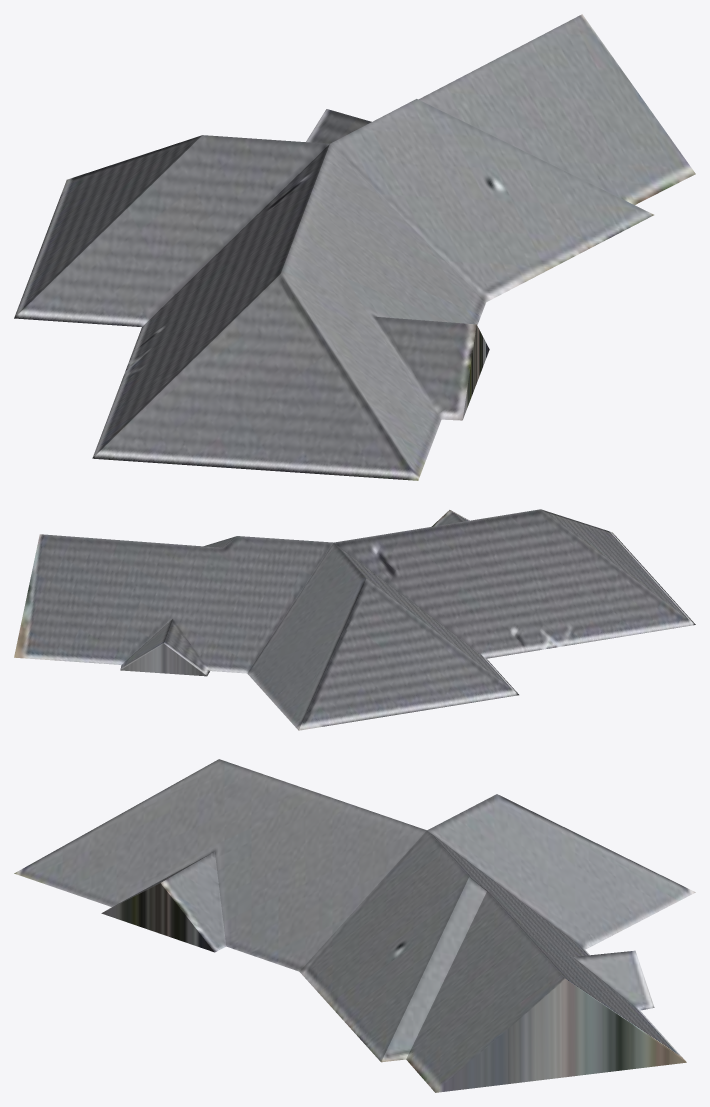
File: BK39_500_012029_0067_roof.obj
3 renders of one model, top to bottom at view 1: azimuth 30°, elevation 25°; view 2: azimuth 150°, elevation 25°; view 3: azimuth 270°, elevation 25°, orthographic. The views are drawn at different scales.
Parts seen in each view (by area): view 1: BK39_500_012029_0067_roof; view 2: BK39_500_012029_0067_roof; view 3: BK39_500_012029_0067_roof.
Boxes of the visible parts, x1,y1,x2,y2 form: BK39_500_012029_0067_roof: (14, 14, 695, 480); BK39_500_012029_0067_roof: (14, 509, 695, 730); BK39_500_012029_0067_roof: (14, 759, 695, 1092).
Bounding box in the file's own units: 439 × 70 × 405.
1 material, 1 textured.
